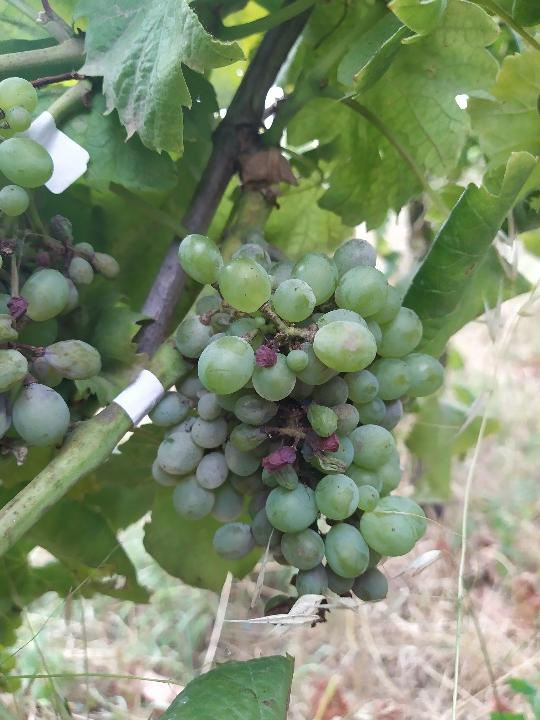grape: (147, 230, 450, 607)
